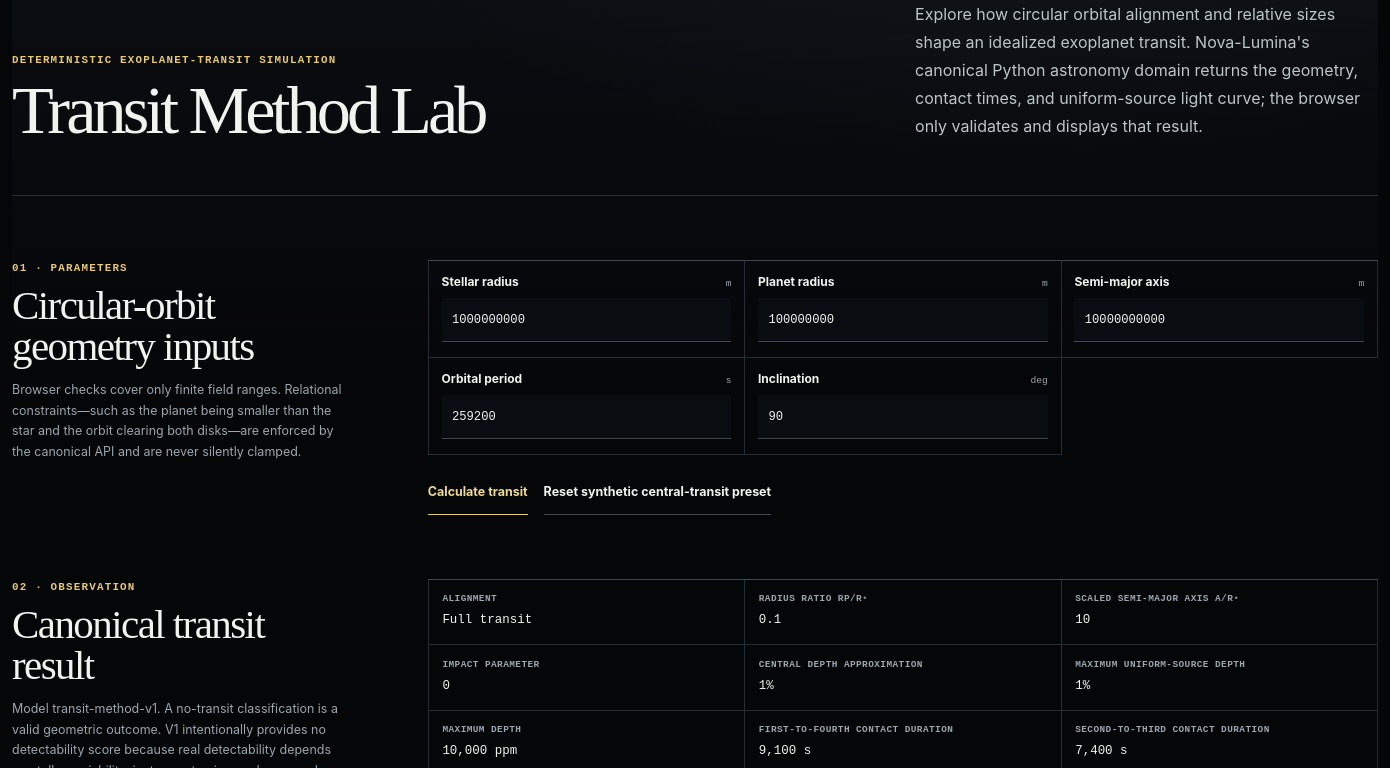
it: TransitMethodView › commits only an accepted echoed API state to the share URL
Replace the text in the number field labelled "Inclination deg" with "89" at (903, 417), box [758,395,1048,439]
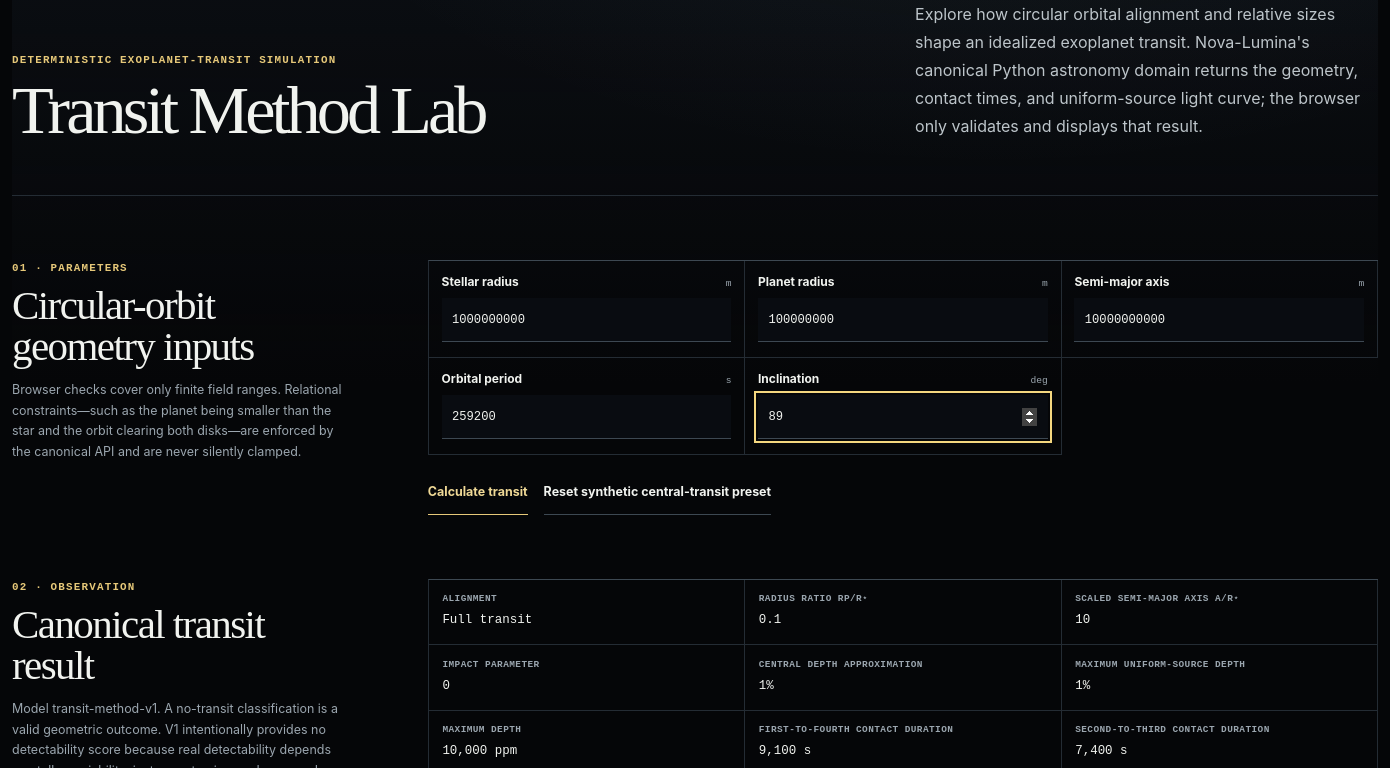
Click the button "Calculate transit".
click(478, 493)  # box [428,471,528,515]
(page scrolled)
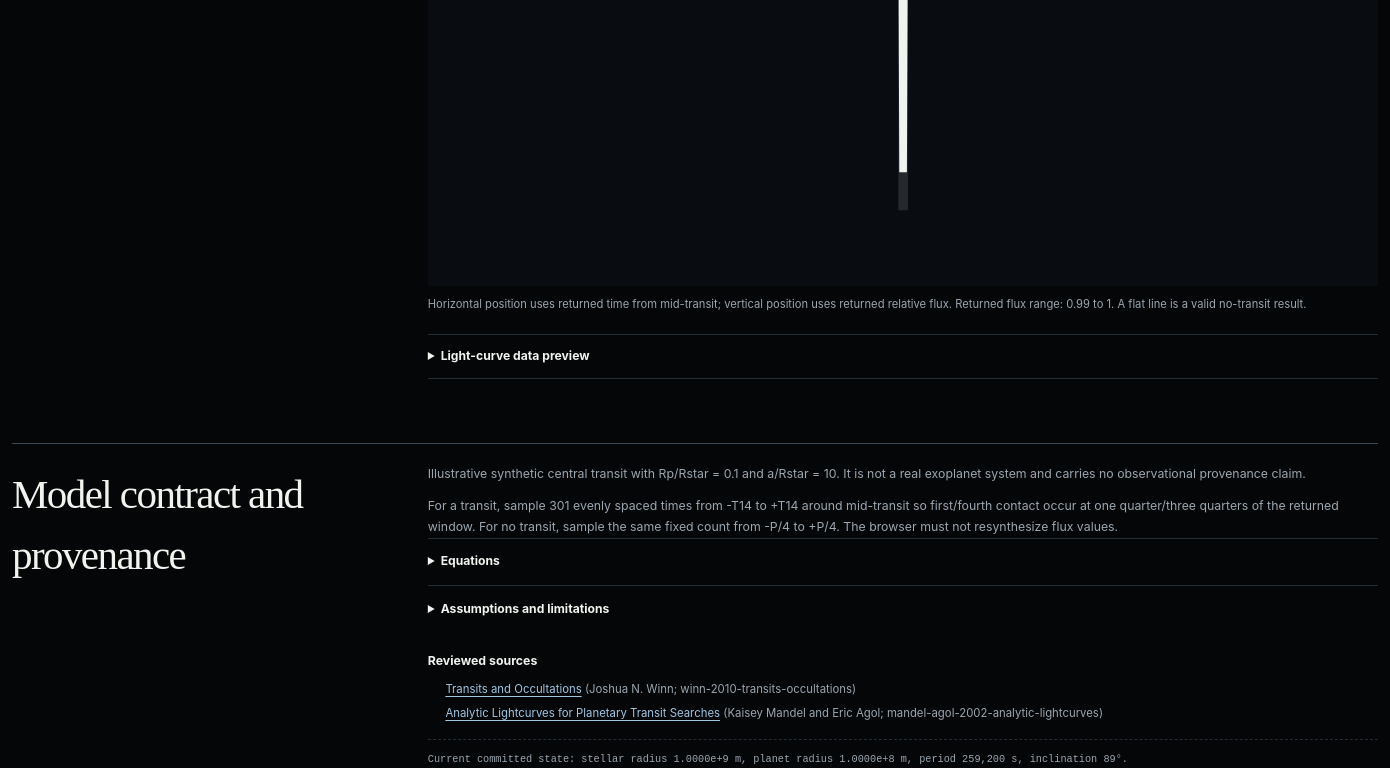
Result: the text "inclination 89°" is shown at [428,753,1128,765]
